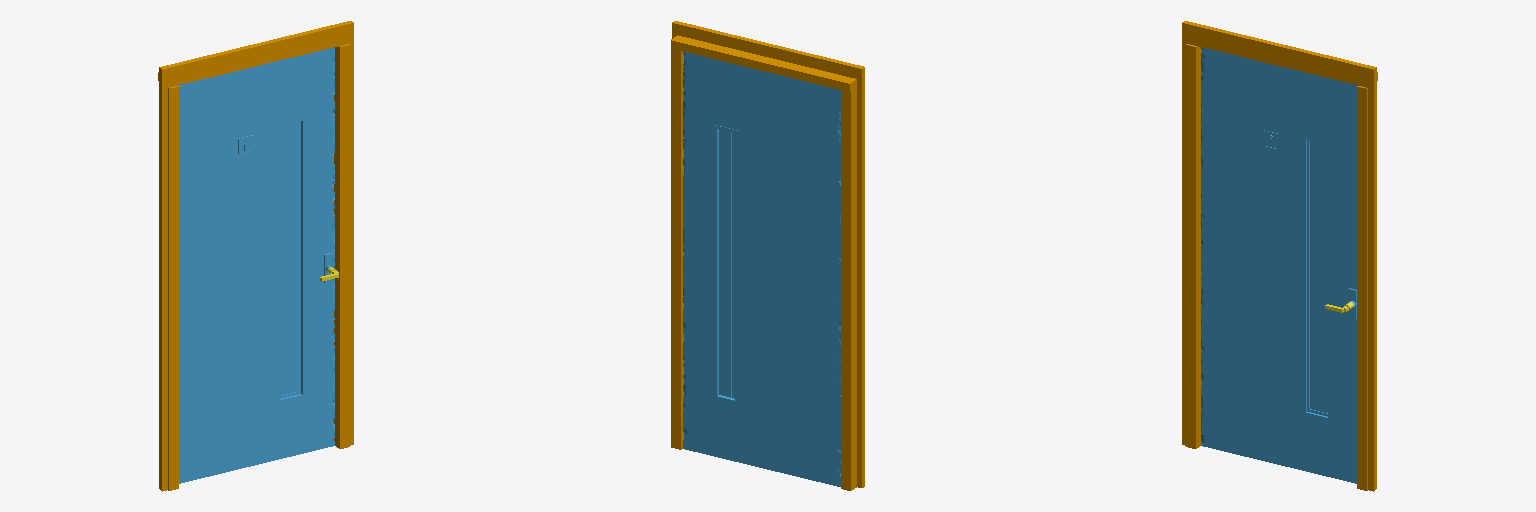
The robot description file, URDF, robot "single_restroom_door_centered":
<robot name="single_restroom_door_centered">
  <material name="frame_white">
    <color rgba="0.82 0.84 0.82 1" />
  </material>
  <material name="white_wood">
    <color rgba="0.79 0.81 0.79 1" />
  </material>
  <material name="window_trim">
    <color rgba="0.72 0.75 0.72 1" />
  </material>
  <material name="frosted_glass">
    <color rgba="0.42 0.48 0.47 0.46" />
  </material>
  <material name="glass_lines">
    <color rgba="0.25 0.29 0.28 0.55" />
  </material>
  <material name="black_metal">
    <color rgba="0.025 0.028 0.026 1" />
  </material>
  <link name="frame">
    <visual name="frame">
      <geometry>
        <mesh filename="assets/meshes/frame.obj" />
      </geometry>
    </visual>
    <collision name="frame">
      <geometry>
        <mesh filename="assets/meshes/frame.obj" />
      </geometry>
    </collision>
  </link>
  <link name="door_leaf">
    <visual name="door_leaf">
      <geometry>
        <mesh filename="assets/meshes/door_leaf.obj" />
      </geometry>
    </visual>
    <collision name="door_leaf">
      <geometry>
        <mesh filename="assets/meshes/door_leaf.obj" />
      </geometry>
    </collision>
  </link>
  <link name="handle_mount">
    </link>
  <link name="lever_handle">
    <visual name="lever_handle">
      <geometry>
        <mesh filename="assets/meshes/lever_handle.obj" />
      </geometry>
    </visual>
    <!--
      Keep the textured Articraft mesh for rendering, but do not use its three
      disconnected components as a VHACD collision source.  The cooked convex
      hulls overlap around the neck/grip transition and can produce a large
      lateral depenetration impulse when the two fingers first close.

      These three boxes are the exact axis-aligned bounds of the mesh's hub,
      neck and long gripping bar.  In particular, the long bar contains the
      configured grasp goal (-0.075, -0.072, 0) and presents the same kind of
      flat, stable pinch surface as the native WC4 handle.
    -->
    <collision name="handle_hub_box">
      <origin xyz="0.000006 -0.019000 0.000002" rpy="0 0 0" />
      <geometry>
        <box size="0.034002 0.038000 0.034002" />
      </geometry>
    </collision>
    <collision name="handle_neck_box">
      <origin xyz="0.000006 -0.048999 0.000002" rpy="0 0 0" />
      <geometry>
        <box size="0.022005 0.029998 0.017995" />
      </geometry>
    </collision>
    <collision name="handle_grip_box">
      <origin xyz="-0.047501 -0.072002 0.000002" rpy="0 0 0" />
      <geometry>
        <box size="0.095013 0.018003 0.017995" />
      </geometry>
    </collision>
  </link>
  <!--
    The frame mesh center is y=-0.0212485 m and the door-leaf mesh center is
    y=-0.0117515 m.  Moving the complete hinged assembly by -0.009497 m
    aligns the closed door panel with the frame-depth center while preserving
    the original door/handle geometry and all relative joint transforms.
  -->
  <joint name="frame_to_door" type="revolute">
    <origin xyz="-0.447838 -0.009497 0.002" rpy="0 0 0" />
    <parent link="frame" />
    <child link="door_leaf" />
    <axis xyz="0 0 1" />
    <limit effort="55" velocity="1.2" lower="0" upper="1.74533" />
  </joint>
  <joint name="door_to_handle_mount" type="fixed">
    <origin xyz="0.852188 -0.0225 0.957428" rpy="0 0 0" />
    <parent link="door_leaf" />
    <child link="handle_mount" />
  </joint>
  <joint name="handle_rotation" type="revolute">
    <origin xyz="0 -0.026 0" rpy="0 0 0" />
    <parent link="handle_mount" />
    <child link="lever_handle" />
    <axis xyz="0 -1 0" />
    <limit effort="8" velocity="3" lower="0" upper="0.959931" />
  </joint>
</robot>

--- What the picture shows (computed from the rendered views, not written in the file) ---
3 views of the same robot in one strip: view 1: azimuth 30°, elevation 25°; view 2: azimuth 150°, elevation 25°; view 3: azimuth 330°, elevation 25° (orthographic).
Robot: single_restroom_door_centered — 4 links, 3 joints (2 revolute, 1 fixed); root link frame; default pose: every joint at zero.
Links seen in each view (by area): view 1: door_leaf, frame; view 2: door_leaf, frame; view 3: door_leaf, frame.
Link boxes in pixels (bbox=[...]): door_leaf: bbox=[178, 47, 334, 483]; frame: bbox=[158, 21, 353, 491]; door_leaf: bbox=[683, 52, 840, 486]; frame: bbox=[671, 21, 864, 490]; door_leaf: bbox=[1201, 47, 1357, 483]; frame: bbox=[1182, 21, 1377, 491].
Size in the robot's own frame: 1.07 by 0.1715 by 2.25 metres.
3 mesh visuals loaded from 3 distinct referenced files (3 OBJ).
